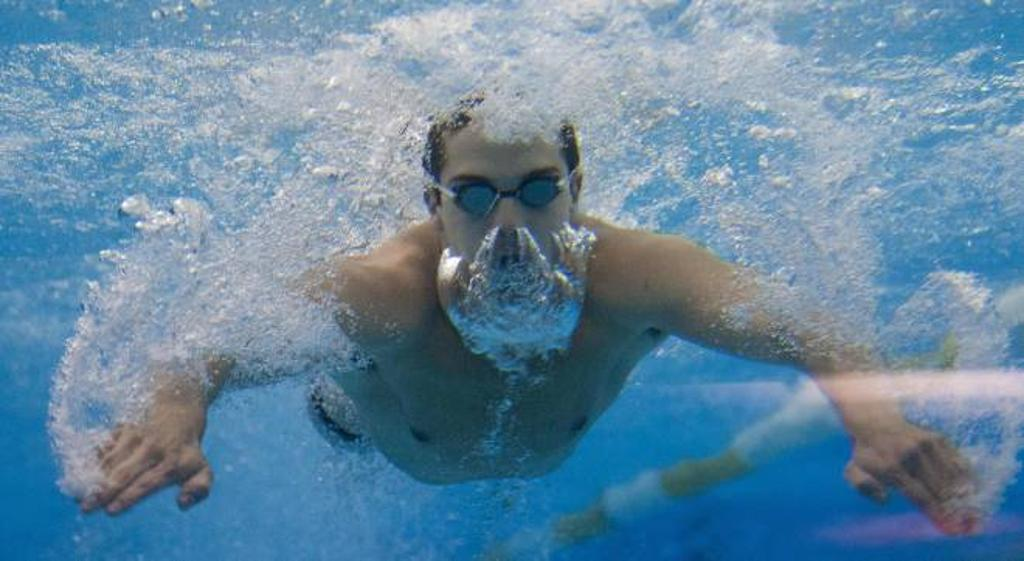face: (454, 118, 574, 292)
